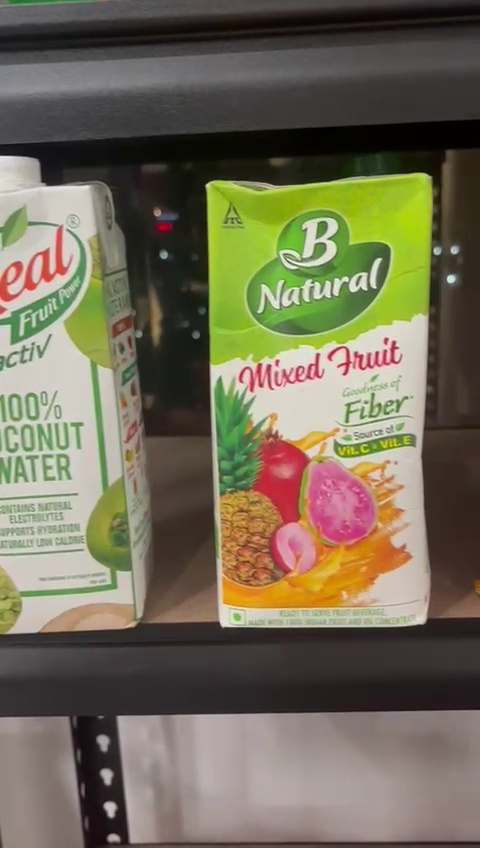Mixed Fruit: (203, 182, 431, 632)
